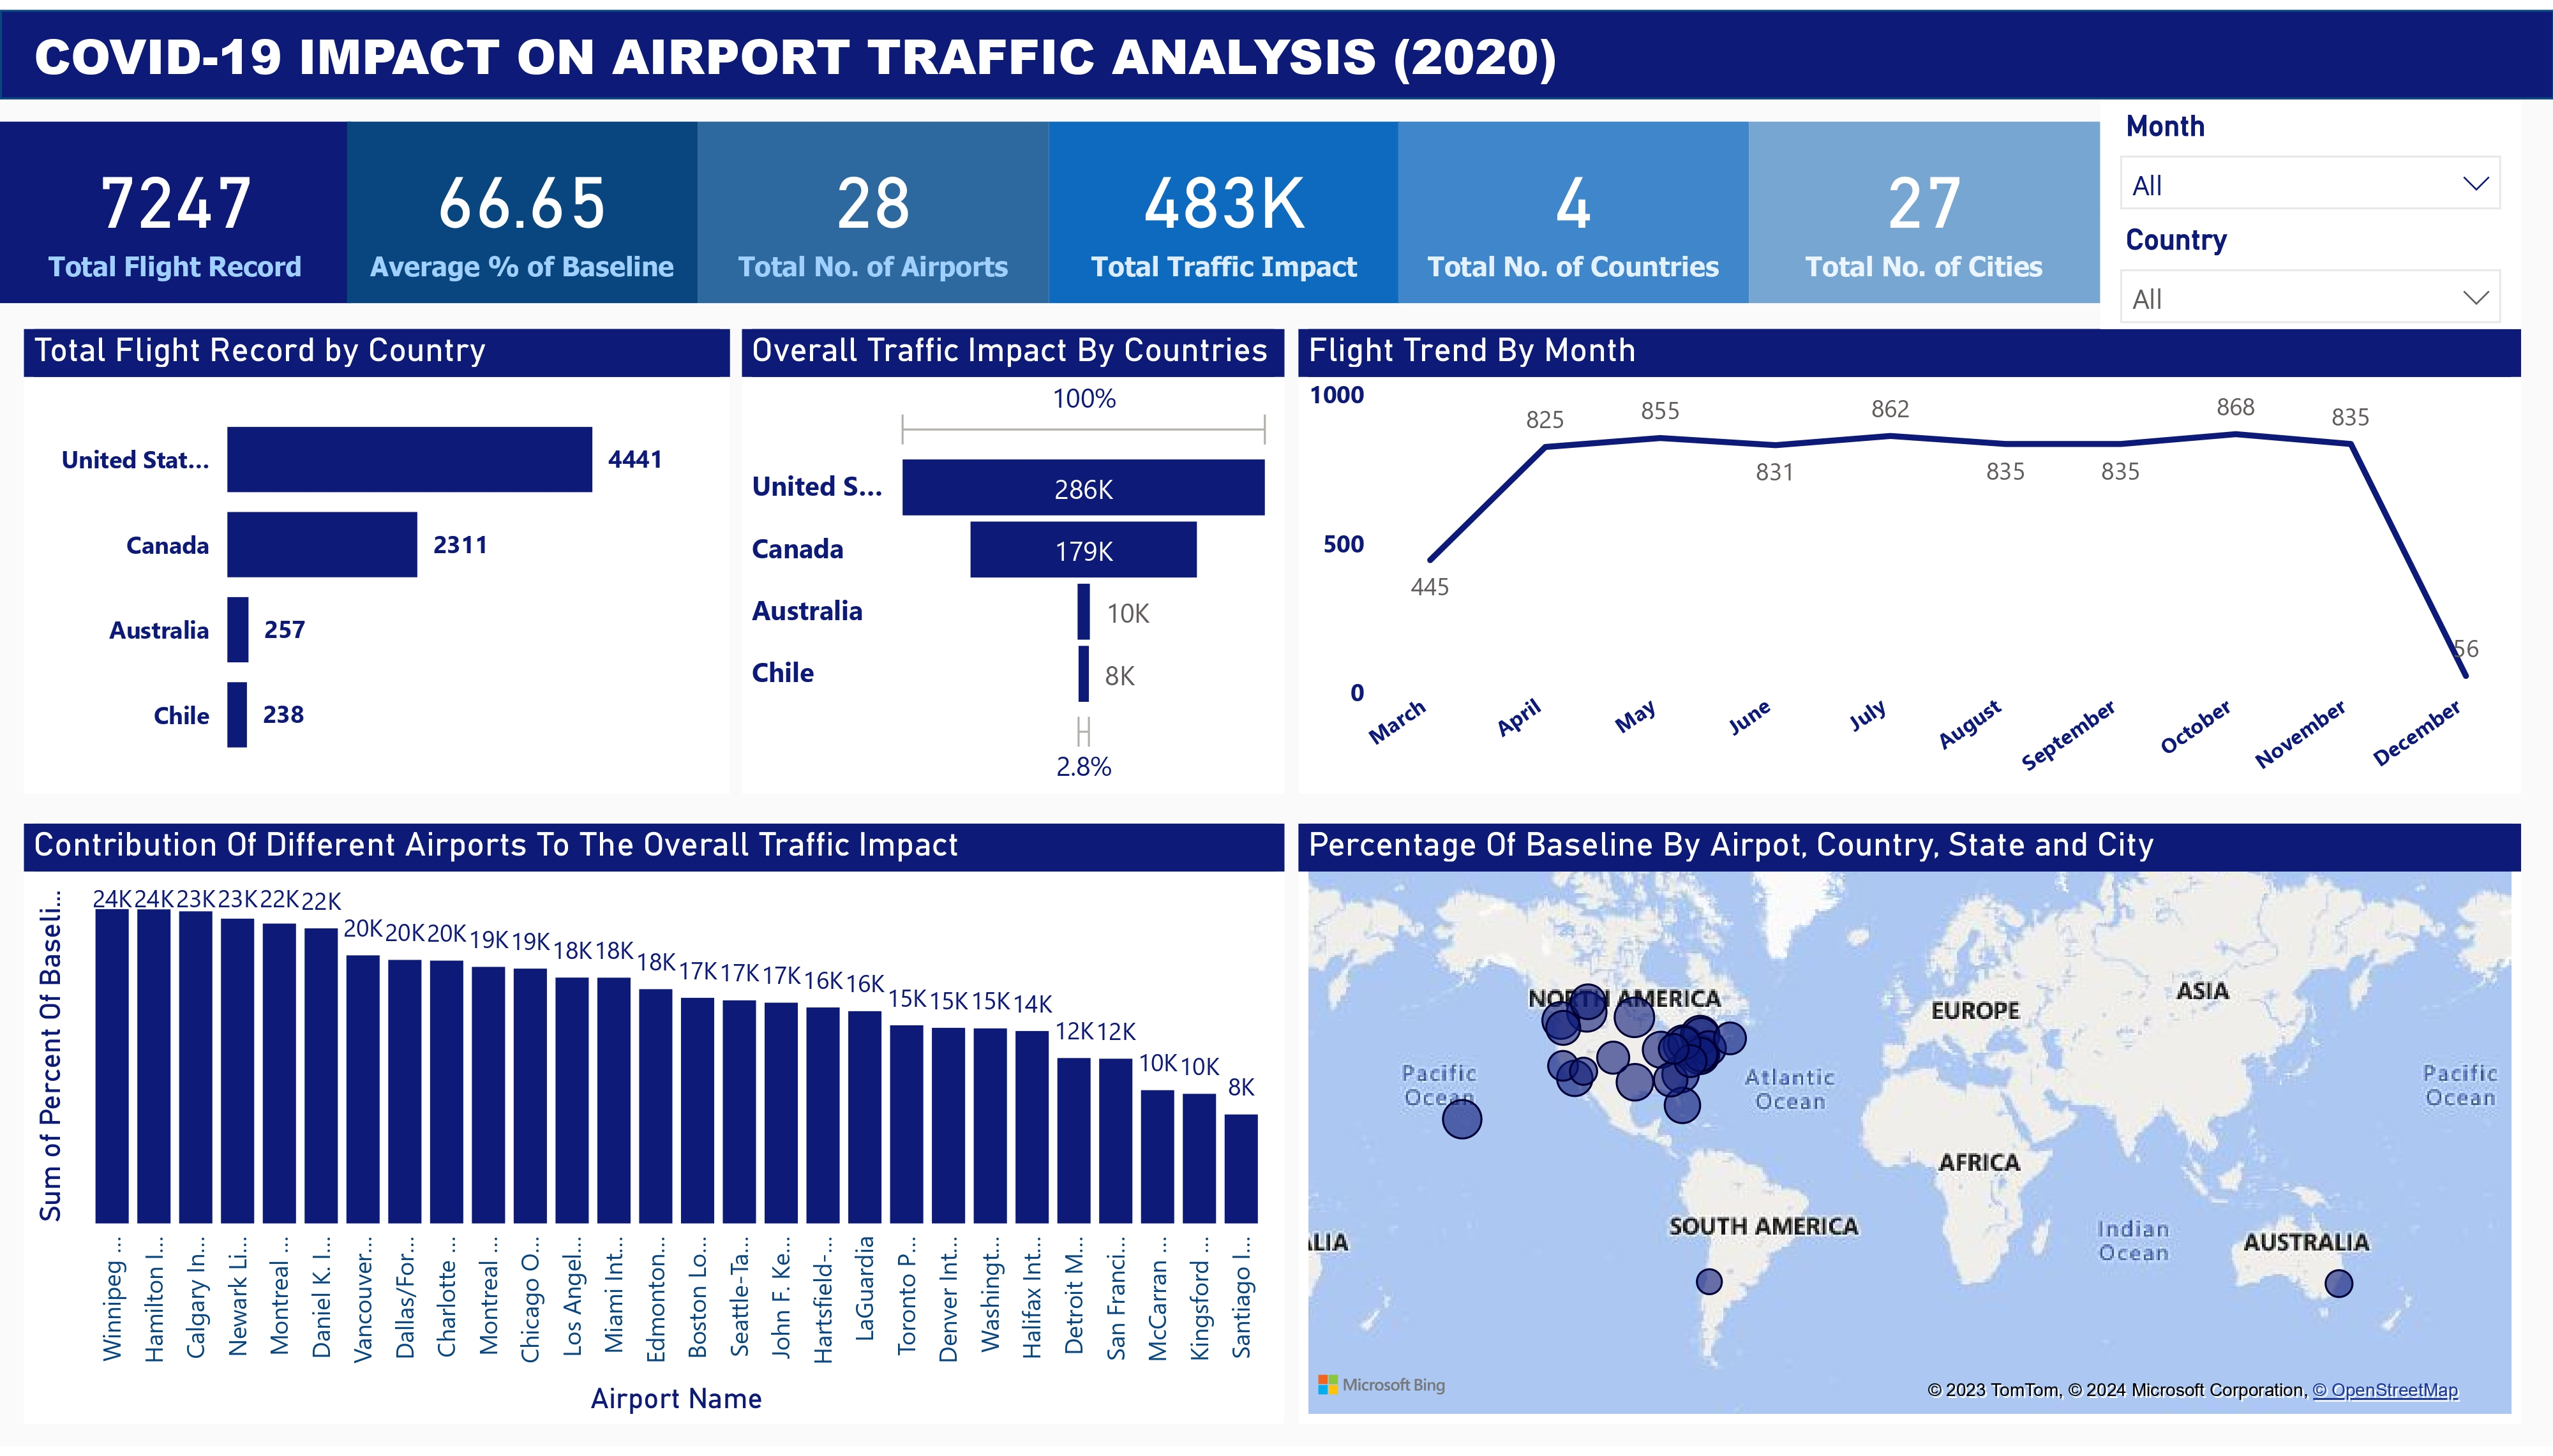

What the dashboard file says about the page in this screenshot:
{"tool":"powerbi","page":{"name":"REPORT","canvas":[1280,720],"ordinal":2},"visuals":[{"type":"shape","box":[0,0,1280.6,44.8],"z":0},{"type":"textbox","box":[11.5,1.4,878.4,50.4],"z":1000},{"type":"card","fields":{"Values":["DAX.Total Flight Record"]},"box":[0,56.2,175.7,90.7],"z":2000},{"type":"card","fields":{"Values":["DAX.Average Percent of Baseline"]},"box":[174.2,56.2,175.7,90.7],"z":3000},{"type":"card","fields":{"Values":["DAX.Total No. of Airports"]},"box":[349.9,56.2,175.7,90.7],"z":4000},{"type":"card","fields":{"Values":["DAX.Total Traffic Impact"]},"box":[525.6,56.2,175.7,90.7],"z":5000},{"type":"card","fields":{"Values":["DAX.Total No. of Countries"]},"box":[701.3,56.2,175.7,90.7],"z":6000},{"type":"card","fields":{"Values":["DAX.Total No. of Cities"]},"box":[877,56.2,175.7,90.7],"z":7000},{"type":"barChart","fields":{"Category":["covid_impact_on_airport_traffic.Country"],"Y":["DAX.Total Flight Record"]},"box":[11.5,159.8,354.2,233.3],"z":8000},{"type":"map","title":"Percentage Of Baseline By Airpot, Country, State and City","fields":{"Y":["covid_impact_on_airport_traffic.Latitude"],"X":["covid_impact_on_airport_traffic.Longitude"],"Category":["covid_impact_on_airport_traffic.AirportName"],"Size":["covid_impact_on_airport_traffic.PercentOfBaseline"]},"box":[650.9,407.5,613.4,301],"z":9000},{"type":"columnChart","title":"Contribution Of Different Airports To The Overall Traffic Impact","fields":{"Y":["covid_impact_on_airport_traffic.PercentOfBaseline"],"Category":["covid_impact_on_airport_traffic.AirportName"]},"box":[11.5,407.5,632.2,301],"z":10000},{"type":"lineChart","title":"Flight Trend By Month","fields":{"Y":["DAX.Count Of Percent Of Baseline"],"Category":["covid_impact_on_airport_traffic.Date.Variation.Date Hierarchy.Month"]},"box":[650.9,159.8,613.4,233.3],"z":11000},{"type":"funnel","title":"Overall Traffic Impact By Countries","fields":{"Category":["covid_impact_on_airport_traffic.Country"],"Y":["covid_impact_on_airport_traffic.PercentOfBaseline"]},"box":[371.5,159.8,272.2,233.3],"z":12000},{"type":"slicer","fields":{"Values":["covid_impact_on_airport_traffic.Date.Variation.Date Hierarchy.Month"]},"box":[1053.1,45.4,211.2,56.7],"z":13000},{"type":"slicer","fields":{"Values":["covid_impact_on_airport_traffic.Country"]},"box":[1053.1,102,211.2,58.1],"z":14000}]}

Visuals, with their boxes in screenshot pixels (x1, y1, x2, y2), scaled from the page's 1280x720 canvas onto the 2553x1456 screenshot:
shape: box(0, 0, 2552, 91)
textbox: box(23, 3, 1775, 105)
card - DAX.Total Flight Record: box(0, 114, 350, 297)
card - DAX.Average Percent of Baseline: box(347, 114, 698, 297)
card - DAX.Total No. of Airports: box(698, 114, 1048, 297)
card - DAX.Total Traffic Impact: box(1048, 114, 1399, 297)
card - DAX.Total No. of Countries: box(1399, 114, 1749, 297)
card - DAX.Total No. of Cities: box(1749, 114, 2100, 297)
barChart - covid_impact_on_airport_traffic.Country x DAX.Total Flight Record: box(23, 323, 730, 795)
"Percentage Of Baseline By Airpot, Country, State and City" map: box(1298, 824, 2522, 1433)
"Contribution Of Different Airports To The Overall Traffic Impact" columnChart: box(23, 824, 1284, 1433)
"Flight Trend By Month" lineChart: box(1298, 323, 2522, 795)
"Overall Traffic Impact By Countries" funnel: box(741, 323, 1284, 795)
slicer - covid_impact_on_airport_traffic.Date.Variation.Date Hierarchy.Month: box(2100, 92, 2522, 207)
slicer - covid_impact_on_airport_traffic.Country: box(2100, 206, 2522, 323)
